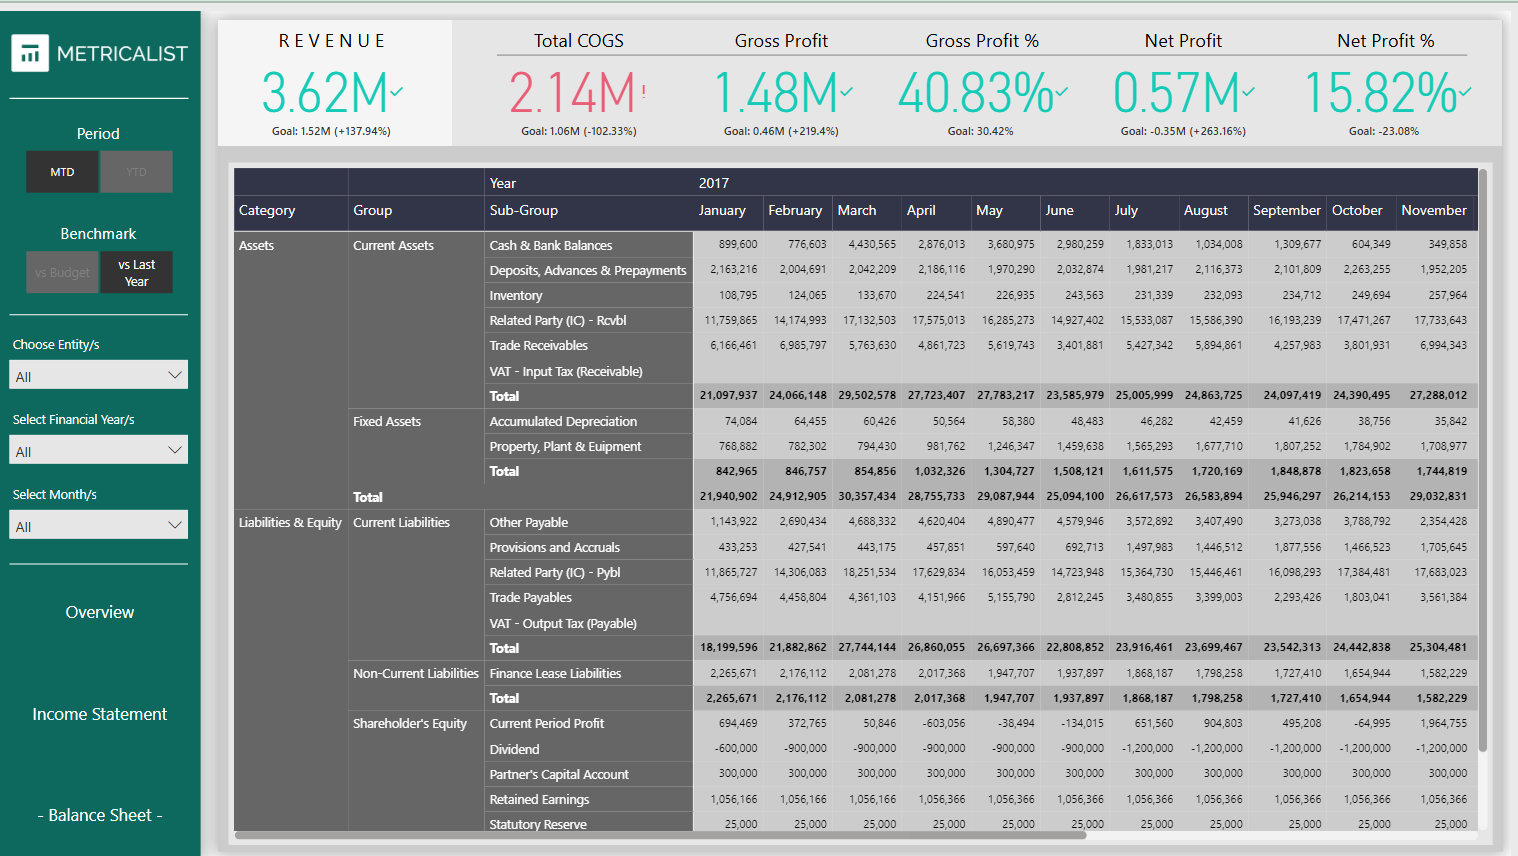

What the dashboard file says about the page in this screenshot:
{"tool":"powerbi","page":{"name":"Financial Overview","canvas":[1440,810],"ordinal":0},"visuals":[{"type":"shape","box":[208,8,1224,792],"z":0},{"type":"shape","box":[0,0,192,808],"z":1000},{"type":"shape","box":[208,8,224,120],"z":2000},{"type":"shape","box":[432,8,1000,120],"z":3000},{"type":"pivotTable","fields":{"Columns":["Calender-Date.Date.Variation.Date Hierarchy.Year","Calender-Date.Date.Variation.Date Hierarchy.Month"],"Rows":["Balance Sheet.Category","Balance Sheet.Group","Balance Sheet.Sub-Group","Balance Sheet.Account"],"Values":["Sum(Balance Sheet.Amount)"]},"box":[219,144,1204,650],"z":4000},{"type":"basicShape","box":[464.6,30,944,24],"z":21000},{"type":"kpi","title":"Net Profit %","fields":{"TrendLine":["Date Table.Date"],"Goal":["Comparison.Target Net Profit %"],"Indicator":["Income Statement.Net Profit %"]},"box":[1232.6,16,176,112],"z":22000},{"type":"kpi","title":"Net Profit","fields":{"TrendLine":["Date Table.Date"],"Goal":["Comparison.Target Net Profit"],"Indicator":["Income Statement.Net Profit"]},"box":[1040.6,16,176,112],"z":23000},{"type":"kpi","title":"Gross Profit %","fields":{"TrendLine":["Date Table.Date"],"Goal":["Comparison.Target Gross Profit %"],"Indicator":["Income Statement.Gross Profit %"]},"box":[848.6,16,176,112],"z":24000},{"type":"kpi","title":"Gross Profit","fields":{"TrendLine":["Date Table.Date"],"Goal":["Comparison.Target Gross Profit"],"Indicator":["Income Statement.Gross Profit"]},"box":[656.6,16,176,112],"z":25000},{"type":"kpi","title":"Total COGS","fields":{"TrendLine":["Date Table.Date"],"Goal":["Comparison.Target COGS"],"Indicator":["Income Statement.COGS"]},"box":[464.6,16,176,112],"z":26000},{"type":"kpi","title":"R E V E N U E","fields":{"TrendLine":["Date Table.Date"],"Goal":["Comparison.Target Revenue"],"Indicator":["Income Statement.Revenue"]},"box":[208,16,216,112],"z":27000},{"type":"actionButton","box":[0,744,192,40],"z":30000},{"type":"actionButton","box":[0,648,192,40],"z":31000},{"type":"actionButton","box":[0,552,192,40],"z":33000},{"type":"basicShape","box":[0,517.1,190,16.3],"z":35000},{"type":"slicer","fields":{"Values":["Calender-Date.Month"]},"box":[0,447.1,190,79.6],"z":36000},{"type":"slicer","fields":{"Values":["Calender-Date.Year"]},"box":[0,375.7,190,78.8],"z":37000},{"type":"slicer","fields":{"Values":["Entity.Entity"]},"box":[0,303.9,190,79.7],"z":38000},{"type":"basicShape","box":[0,280.2,190,15.8],"z":39000},{"type":"slicer","title":"Benchmark","fields":{"Values":["Benchmark.Benchmark"]},"box":[0,201.1,189.3,74.6],"z":40000},{"type":"slicer","title":"Period","fields":{"Values":["Period.Period"]},"box":[0,105.9,189.3,74.6],"z":41000},{"type":"basicShape","box":[0,74.9,190.5,16.5],"z":42000},{"type":"image","box":[1.8,0,191.5,82.3],"z":45001}]}

Visuals, with their boxes on the page's 1440x810 design canvas (x1, y1, x2, y2). These are canvas units, not pixel positions in the 1518x856 screenshot, which may show the page scaled, cropped or inside an application window:
shape: [208, 8, 1432, 800]
shape: [0, 0, 192, 808]
shape: [208, 8, 432, 128]
shape: [432, 8, 1432, 128]
pivotTable - Calender-Date.Date.Variation.Date Hierarchy.Year x Calender-Date.Date.Variation.Date Hierarchy.Month: [219, 144, 1423, 794]
basicShape: [465, 30, 1409, 54]
"Net Profit %" kpi: [1233, 16, 1409, 128]
"Net Profit" kpi: [1041, 16, 1217, 128]
"Gross Profit %" kpi: [849, 16, 1025, 128]
"Gross Profit" kpi: [657, 16, 833, 128]
"Total COGS" kpi: [465, 16, 641, 128]
"R E V E N U E" kpi: [208, 16, 424, 128]
actionButton: [0, 744, 192, 784]
actionButton: [0, 648, 192, 688]
actionButton: [0, 552, 192, 592]
basicShape: [0, 517, 190, 533]
slicer - Calender-Date.Month: [0, 447, 190, 527]
slicer - Calender-Date.Year: [0, 376, 190, 454]
slicer - Entity.Entity: [0, 304, 190, 384]
basicShape: [0, 280, 190, 296]
"Benchmark" slicer: [0, 201, 189, 276]
"Period" slicer: [0, 106, 189, 180]
basicShape: [0, 75, 190, 91]
image: [2, 0, 193, 82]
